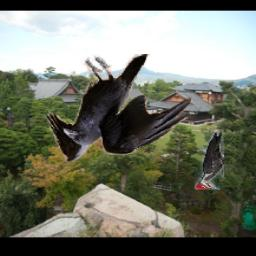Crow: (46, 54, 193, 162)
Woodpecker: (196, 131, 225, 190)
